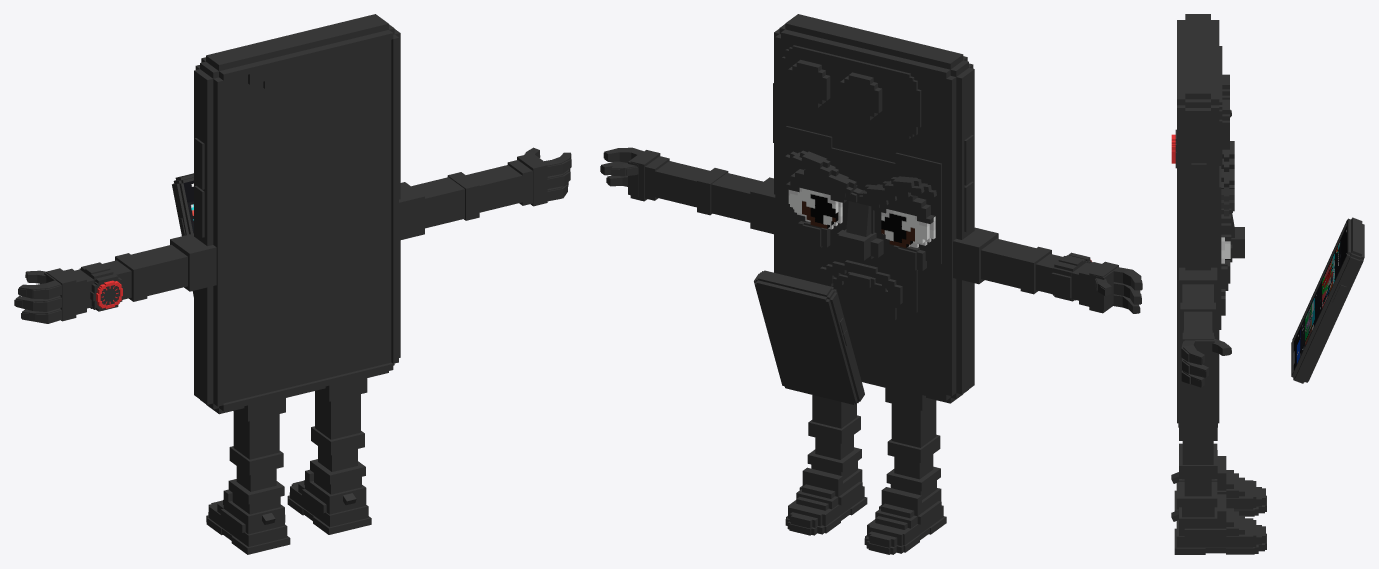
Rendered from steal_a_brainrot_celularcini_viciosini.glb.
3 views of the same model, side by side, from view 1: azimuth 30°, elevation 25°; view 2: azimuth 150°, elevation 25°; view 3: azimuth 270°, elevation 25° (orthographic). The views are drawn at different scales.
Visible parts, largest first — view 1: Object_6, Object_16, Object_7, Object_9, Object_14, Object_8; view 2: Object_16, Object_7, Object_17, Object_8, Object_14, Object_9, Object_4, Object_10, Object_6, Object_18; view 3: Object_16, Object_7, Object_14, Object_8, Object_9, Object_4, Object_10, Object_6, Object_17.
Part boxes in pixels (bbox=[...]): Object_6: bbox=[223, 40, 391, 403]; Object_16: bbox=[15, 30, 570, 491]; Object_7: bbox=[14, 14, 571, 475]; Object_9: bbox=[206, 459, 371, 554]; Object_14: bbox=[100, 285, 368, 546]; Object_8: bbox=[172, 173, 193, 296]; Object_16: bbox=[600, 29, 1141, 479]; Object_7: bbox=[600, 14, 1142, 462]; Object_17: bbox=[785, 126, 941, 319]; Object_8: bbox=[754, 270, 864, 404]; Object_14: bbox=[788, 68, 943, 547]; Object_9: bbox=[785, 447, 946, 554]; Object_4: bbox=[788, 188, 935, 247]; Object_10: bbox=[784, 150, 936, 205]; Object_6: bbox=[788, 59, 882, 120]; Object_18: bbox=[1051, 255, 1087, 301]; Object_16: bbox=[1177, 20, 1244, 496]; Object_7: bbox=[1178, 14, 1232, 478]; Object_14: bbox=[1176, 456, 1265, 547]; Object_8: bbox=[1291, 217, 1364, 383]; Object_9: bbox=[1171, 443, 1266, 554]; Object_4: bbox=[1221, 226, 1346, 370]; Object_10: bbox=[1221, 141, 1234, 216]; Object_6: bbox=[1222, 74, 1229, 149]; Object_17: bbox=[1219, 166, 1221, 329].
Size of the model in its own units: 12.05 by 10.17 by 3.77.
Materials: 15 (15 with a texture image).
